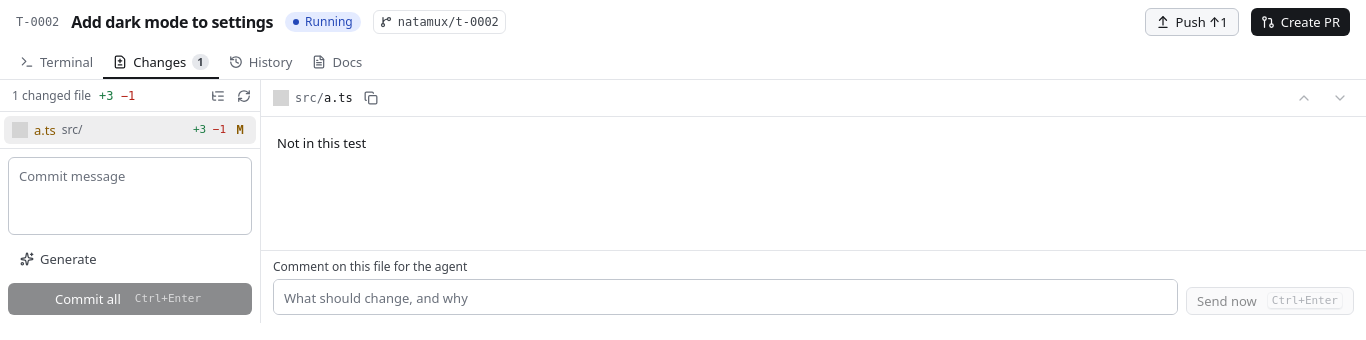
it: ChangesView › the commit message draft › says why when the agent could not draft, and shows the simple draft
What coordinates should you click on to do the following:
click the button "Generate"
I would click on:
 (58, 259)
Its box is [8,243,109,275].
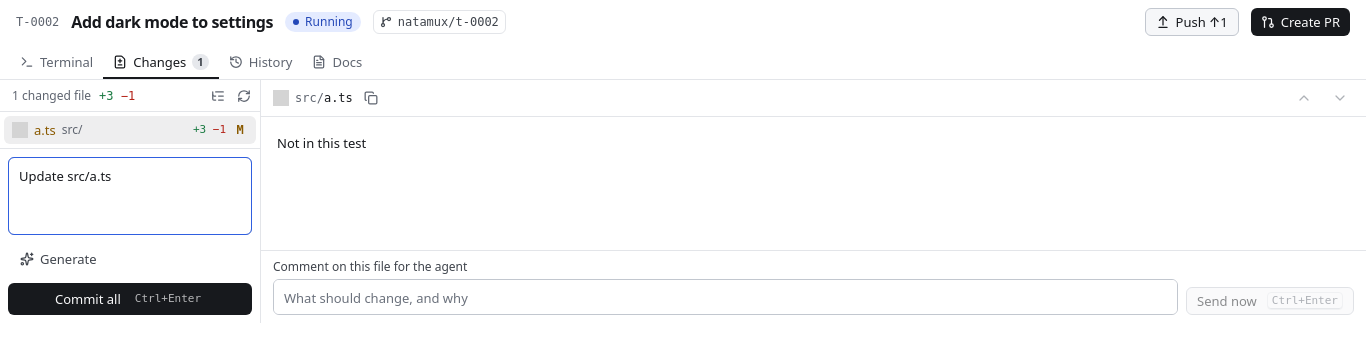
Expected: the text box named "Commit message" holds "Update src/a.ts", [8,157,252,235]
